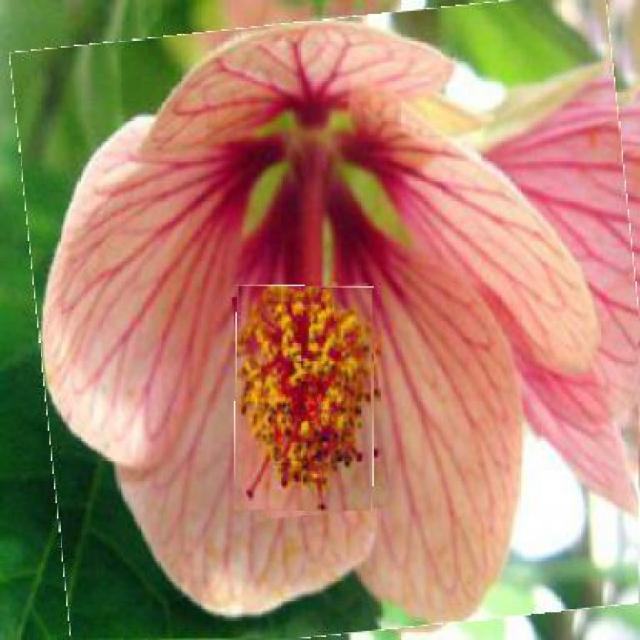Flower: (25, 5, 639, 639), (236, 286, 376, 512)
